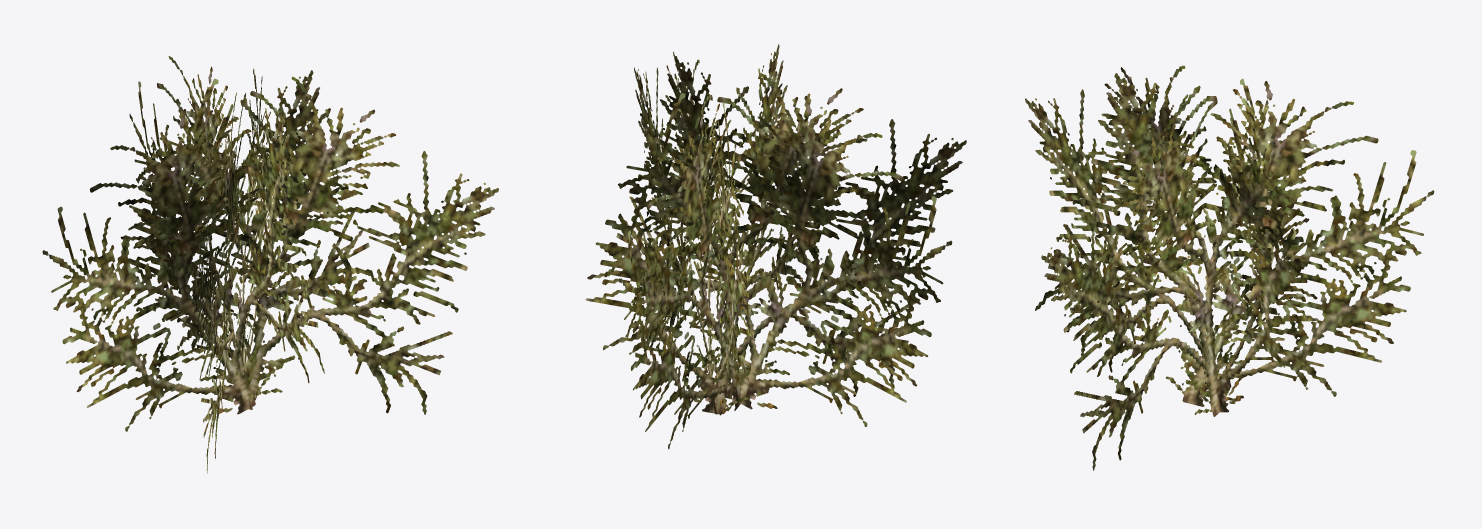
The picture shows the model from 3 angles, left to right: view 1: azimuth 30°, elevation 25°; view 2: azimuth 150°, elevation 25°; view 3: azimuth 270°, elevation 25°; orthographic projection. The views are drawn at different scales.
Parts seen in each view (by area): view 1: _db01a; view 2: _db01a; view 3: _db01a.
Boxes of the visible parts, x1=… form: _db01a: x1=42, y1=56, x2=498, y2=473; _db01a: x1=585, y1=44, x2=966, y2=449; _db01a: x1=1025, y1=65, x2=1434, y2=470.
Size of the model in its own units: 2.53 by 2.32 by 2.31.
Materials: 1 (1 with a texture image).
